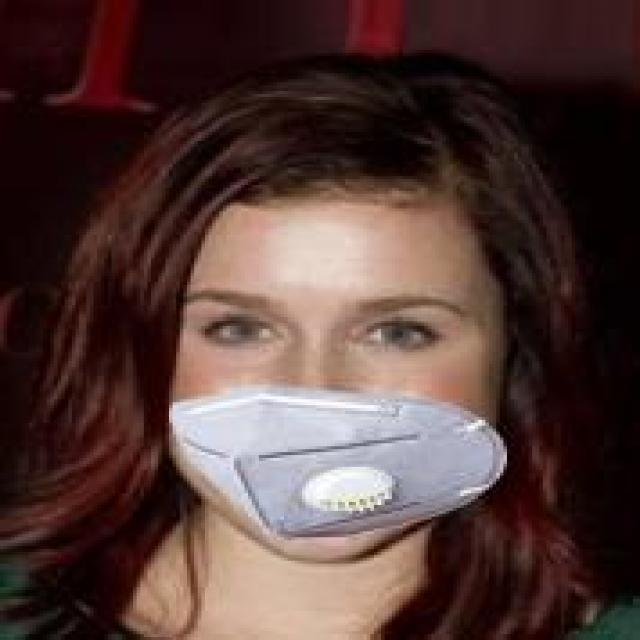mask: (76, 103, 568, 625)
